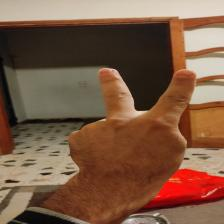two: (73, 65, 198, 180)
